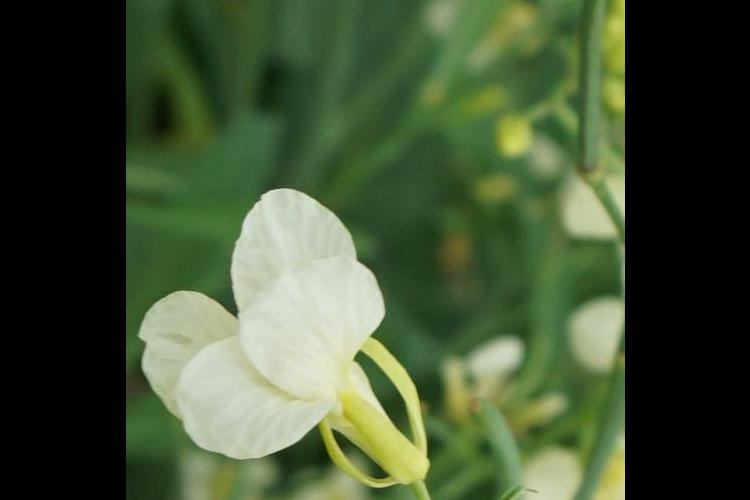white: (159, 198, 432, 488)
